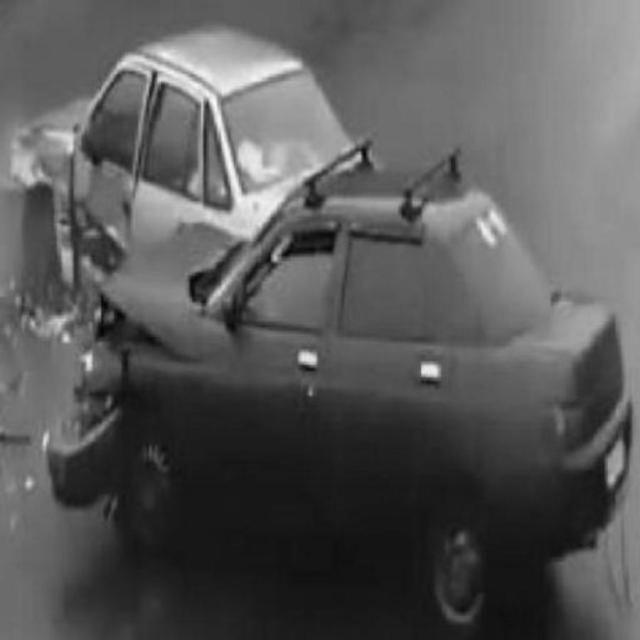accident: (18, 25, 616, 583)
